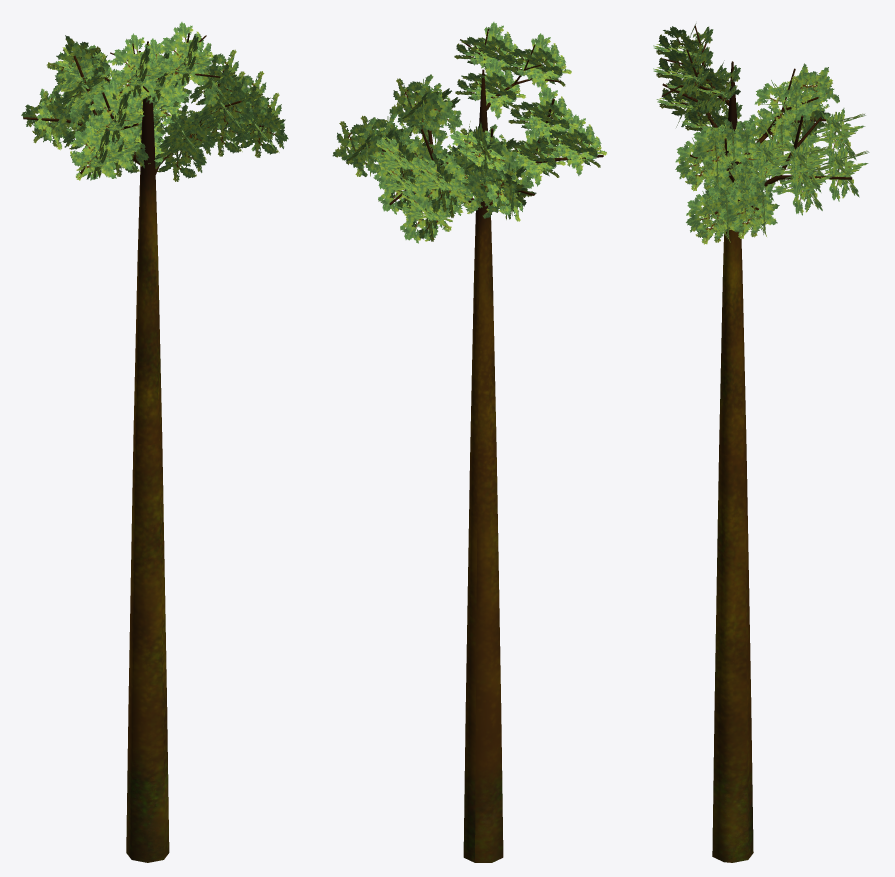
The model's file is Tree.fbx.
3 renders of one model, left to right at view 1: azimuth 30°, elevation 25°; view 2: azimuth 150°, elevation 25°; view 3: azimuth 270°, elevation 25°, orthographic. The views are drawn at different scales.
Visible parts, largest first — view 1: Tree; view 2: Tree; view 3: Tree.
Boxes of the visible parts, left/top/right/bottom form: Tree: left=21, top=22, right=288, bottom=862; Tree: left=332, top=22, right=606, bottom=862; Tree: left=653, top=23, right=869, bottom=862.
Bounding box in the file's own units: 847 × 2686 × 698.
